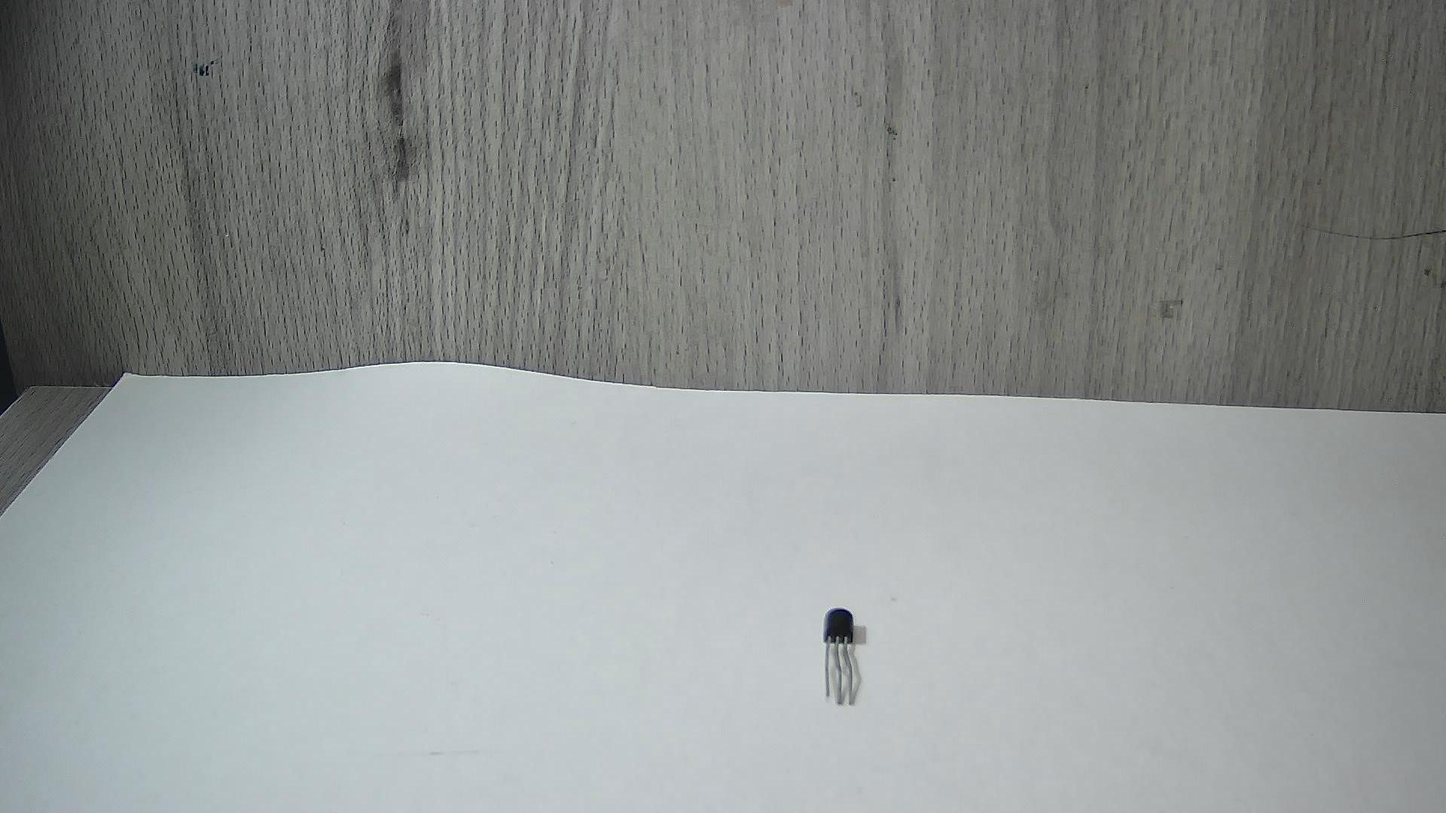Transistor: (801, 577, 896, 725)
